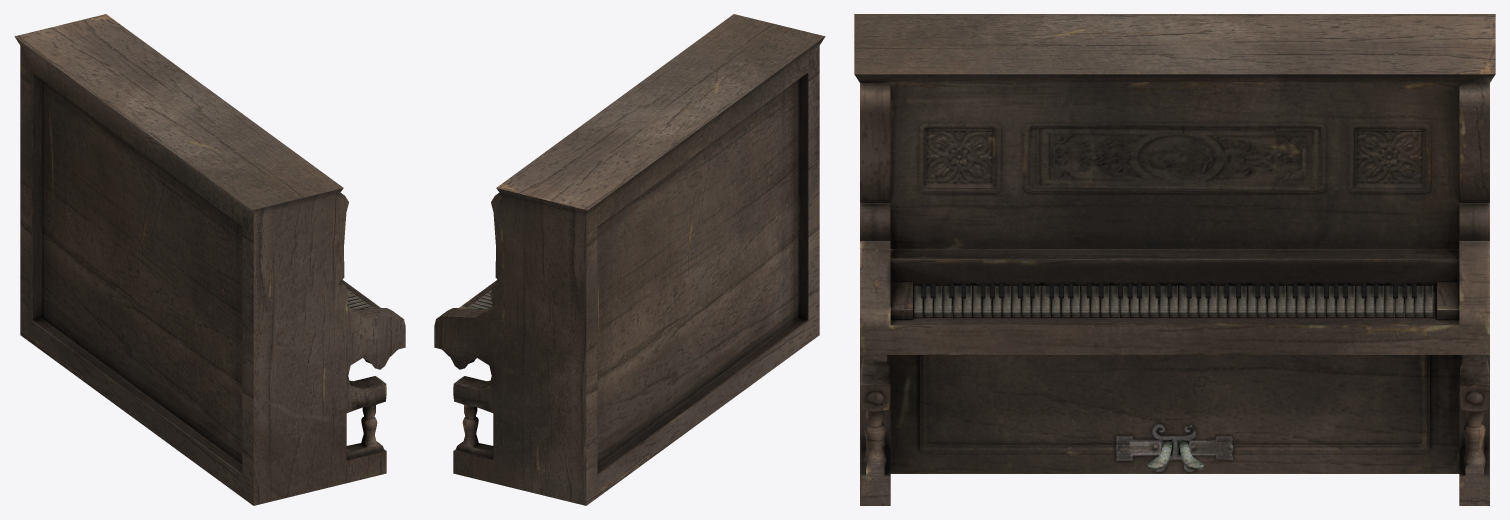
Rendered from piano.obj.
The picture shows the model from 3 angles, left to right: view 1: azimuth 30°, elevation 25°; view 2: azimuth 150°, elevation 25°; view 3: azimuth 270°, elevation 25°; orthographic projection. The views are drawn at different scales.
Parts seen in each view (by area): view 1: cube1_sep187; view 2: cube1_sep187; view 3: cube1_sep187.
Part boxes in pixels (x1,y1,x2,y2): cube1_sep187: (14, 14, 405, 505); cube1_sep187: (434, 14, 825, 505); cube1_sep187: (854, 14, 1495, 505).
Bounding box in the file's own units: 6.67 × 12.21 × 17.65.
